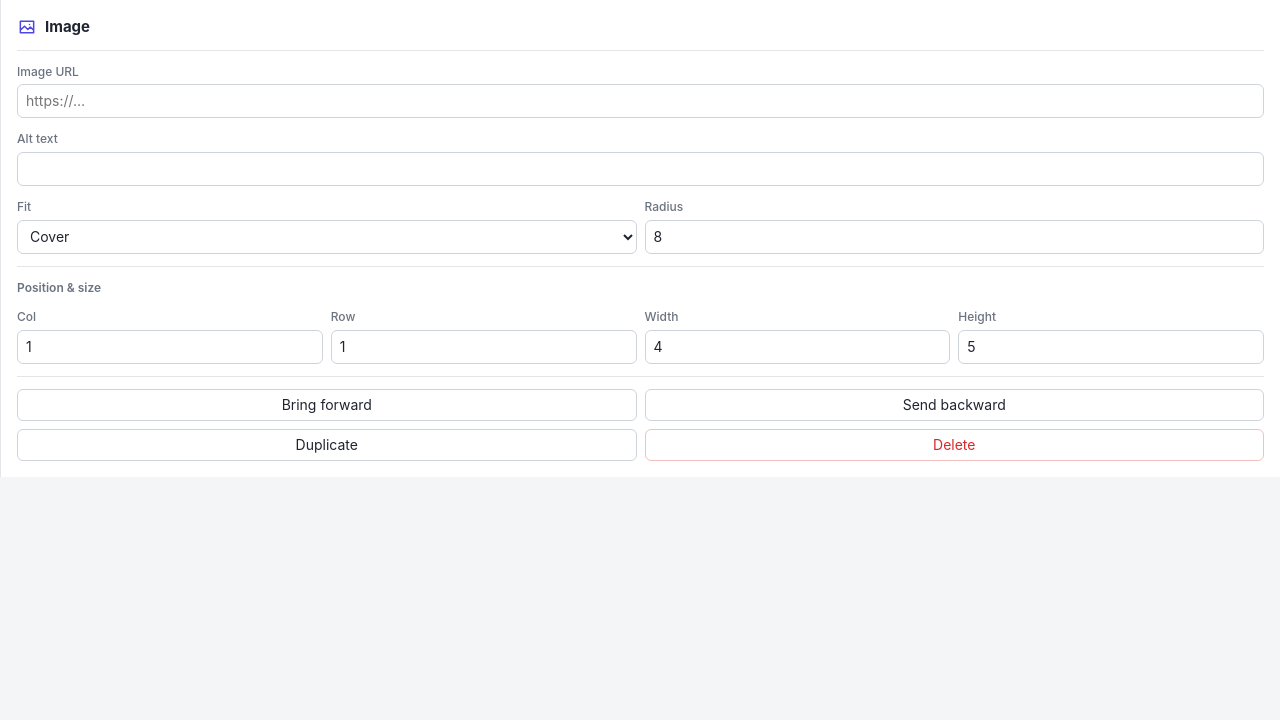
PropertiesPanel URL field › still never commits an unsafe URL
This screenshot has width=1280, height=720.
Type "javascript:alert(1)" into the field labelled "Image URL" at (640, 101), box [17, 84, 1264, 118]
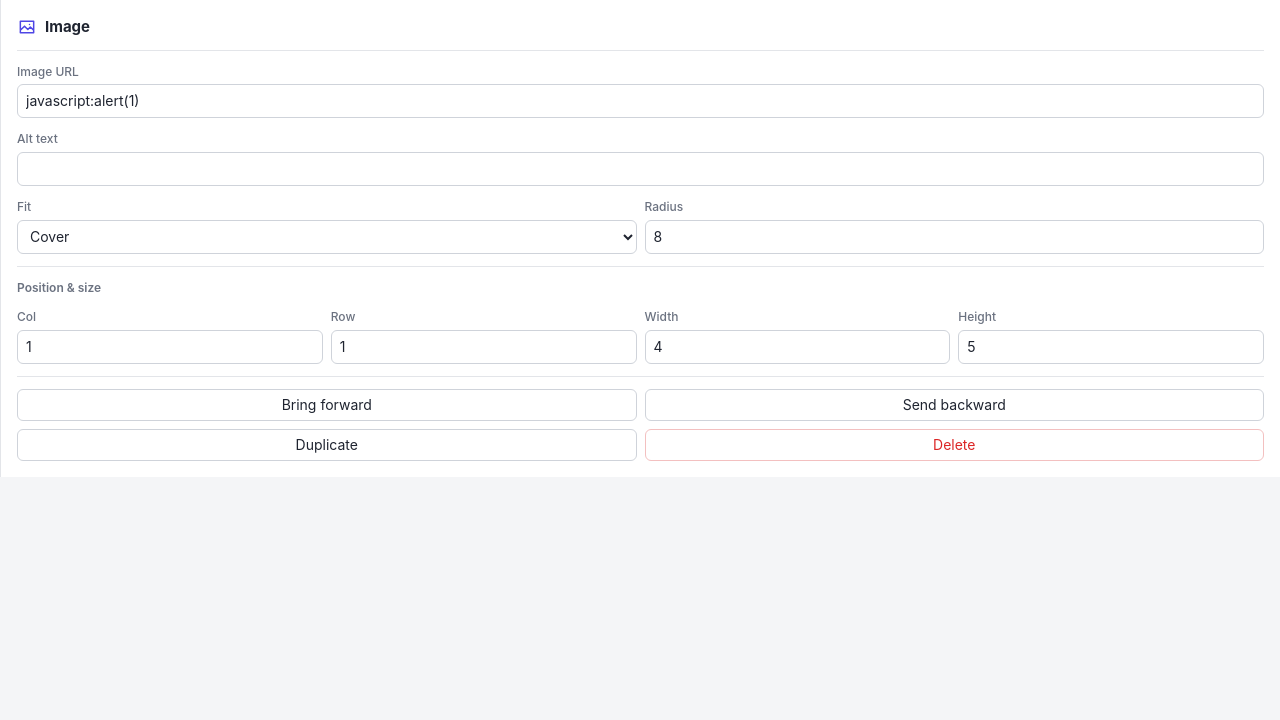
Leave the field labelled "Image URL", box [17, 84, 1264, 118]
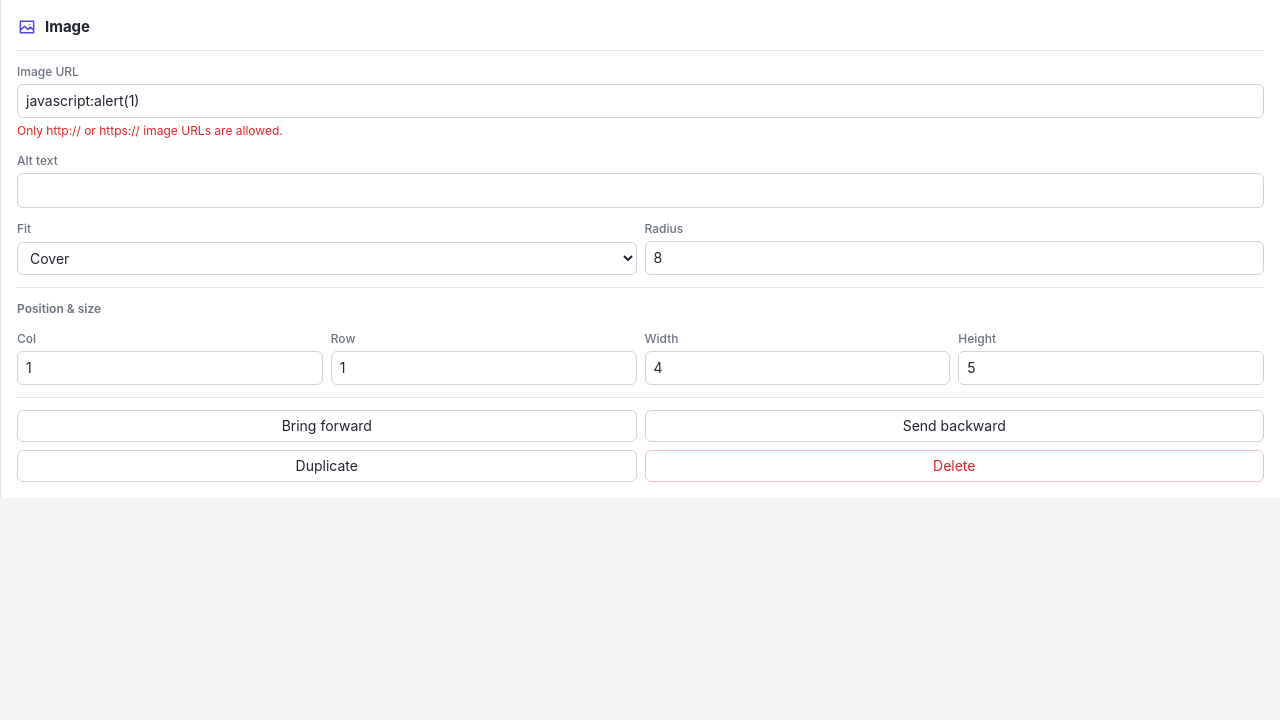
Expected: the message shows "Only http", [17, 123, 283, 138]
